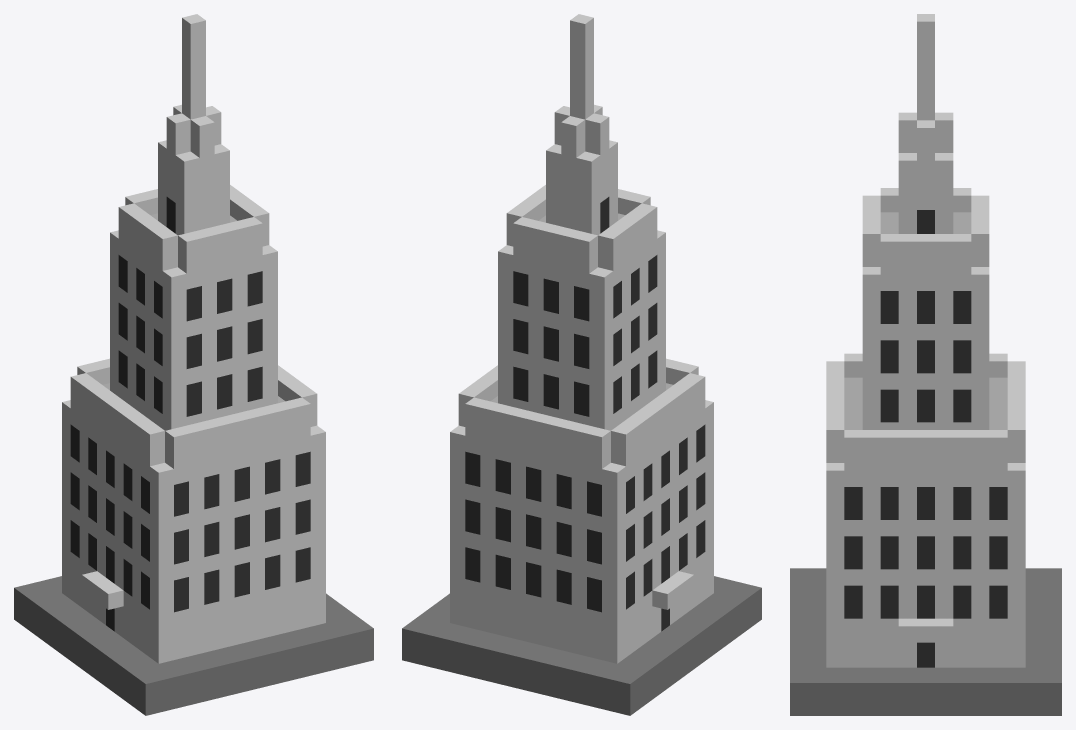
The model's file is Building04.obj.
3 renders of one model, left to right at view 1: azimuth 30°, elevation 25°; view 2: azimuth 150°, elevation 25°; view 3: azimuth 270°, elevation 25°, orthographic. The views are drawn at different scales.
Visible parts, largest first — view 1: Building04; view 2: Building04; view 3: Building04.
Boxes of the visible parts, box(x1,y1,x2,y2) form: Building04: box(14, 14, 373, 715); Building04: box(402, 14, 761, 715); Building04: box(790, 14, 1061, 715).
Bounding box in the file's own units: 1.5 × 3.9 × 1.5.
1 material, 1 textured.
